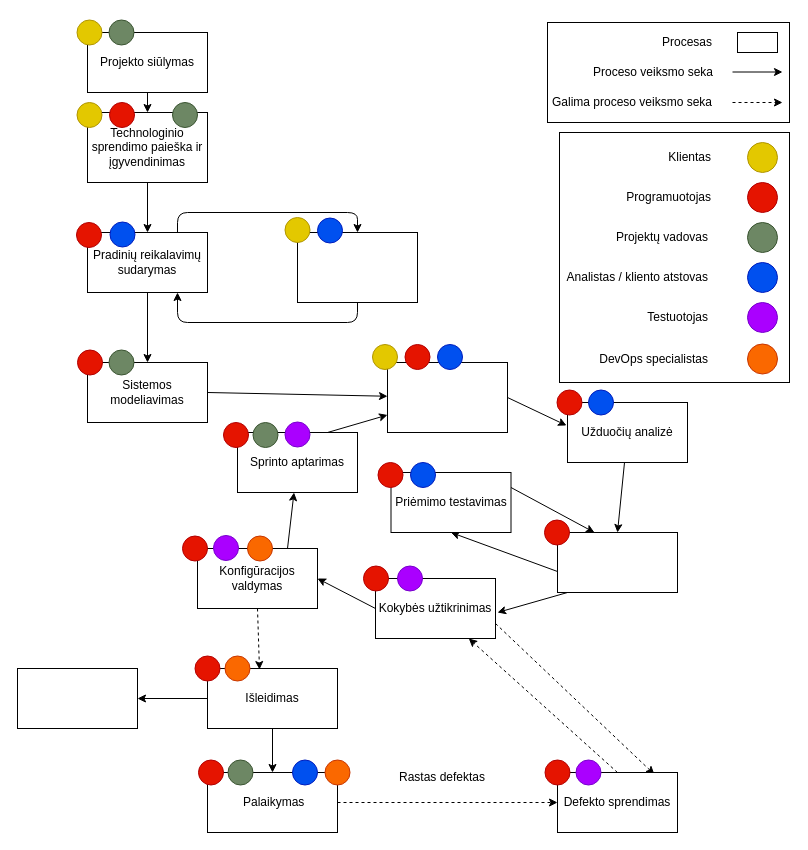
Image size: 808x850. Some labels were removed from this diagram. Each missing label, with the centre of its shape:
"Balius" goes at point 77,698.
"Programavimas" goes at point 617,562.
"Sprinto reikalavimų tikslinimas ir vertinimas" goes at point 447,397.
"Susitikimai su klientu, funkcionalumo tikslinimas" goes at point 357,267.
